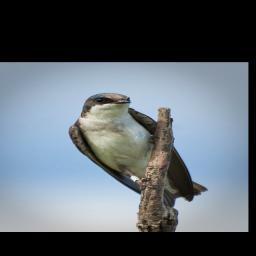Swallow: (68, 92, 210, 208)
